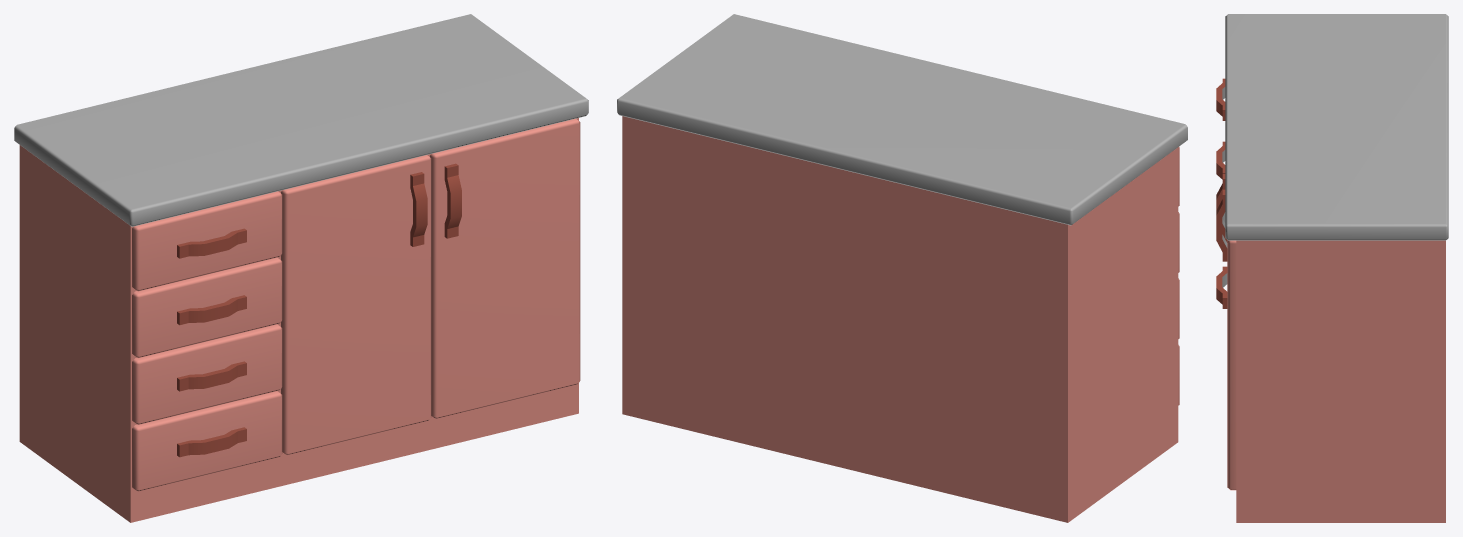
3 views of the same model, side by side, from view 1: azimuth 30°, elevation 25°; view 2: azimuth 150°, elevation 25°; view 3: azimuth 270°, elevation 25° (orthographic). The views are drawn at different scales.
Visible parts, largest first — view 1: kitchen.004; view 2: kitchen.004; view 3: kitchen.004.
Part boxes in pixels (x1,y1,x2,y2): kitchen.004: [14, 14, 588, 522]; kitchen.004: [617, 14, 1187, 522]; kitchen.004: [1216, 14, 1448, 522].
Size of the model in its own units: 1.64 by 1.09 by 0.7619.
